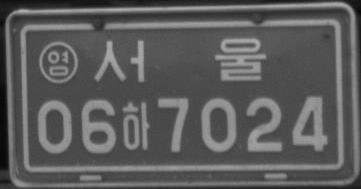0: (37, 99, 73, 155), (201, 98, 237, 153)
2: (246, 97, 283, 153)
4: (291, 95, 328, 152)
6: (79, 98, 117, 155)
7: (156, 96, 190, 152)
서울_D: (93, 37, 266, 84)
영: (38, 40, 79, 84)
하: (122, 100, 149, 151)
